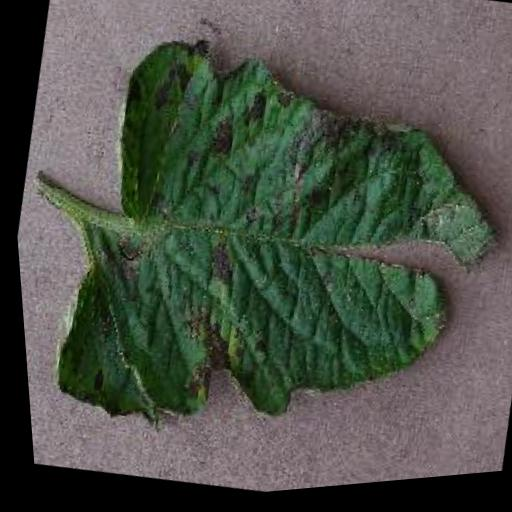Early Blight: (13, 6, 512, 504)
